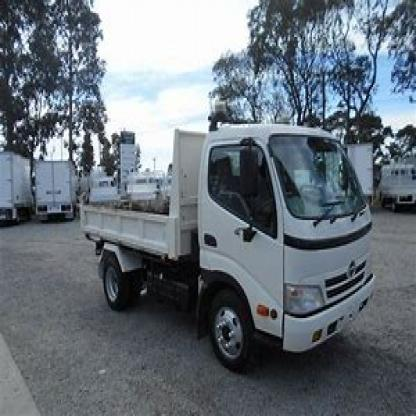dump_truck: (82, 106, 377, 376)
